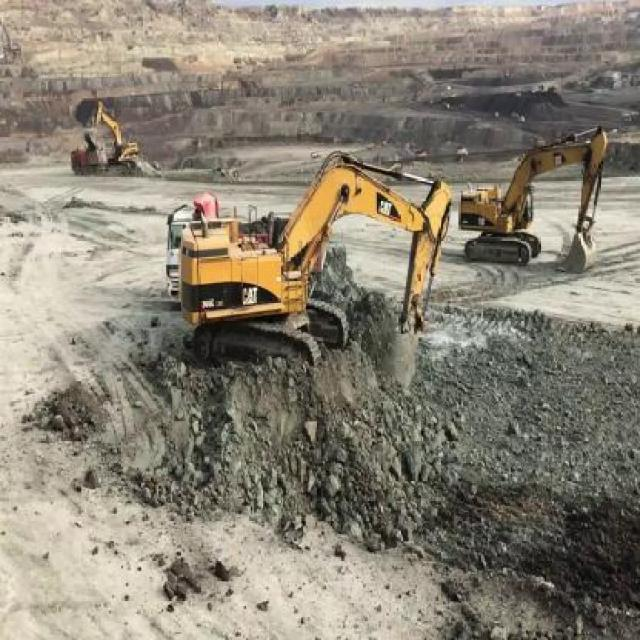Dump Truck: (70, 142, 105, 173)
Excavator: (172, 145, 445, 397), (454, 123, 609, 271), (86, 101, 140, 176)
